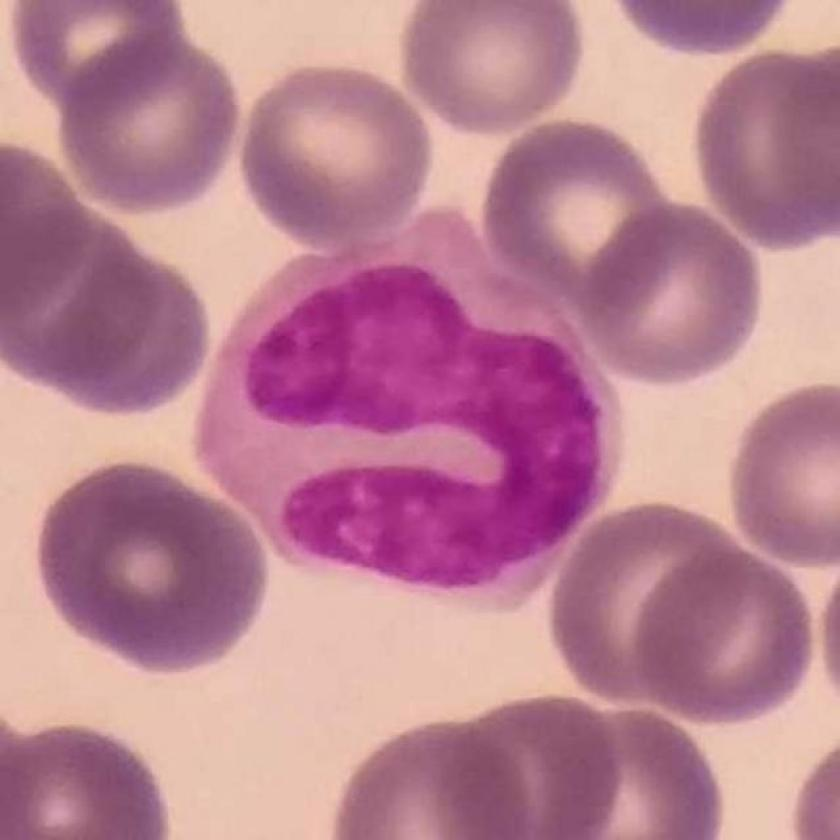monocyte: (192, 201, 633, 619)
